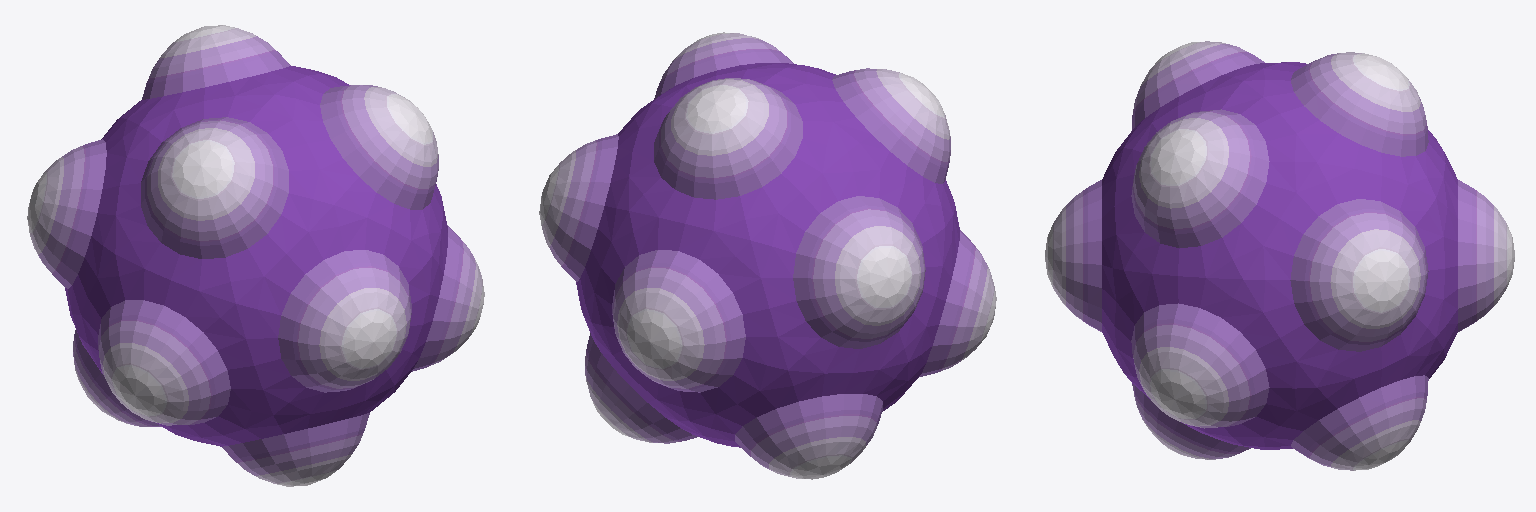
3 renders of one model, left to right at view 1: azimuth 30°, elevation 25°; view 2: azimuth 150°, elevation 25°; view 3: azimuth 270°, elevation 25°, orthographic.
Parts seen in each view (by area): view 1: core_28_0; view 2: core_28_0; view 3: core_28_0.
Boxes of the visible parts, x1=… form: core_28_0: x1=27, y1=25, x2=484, y2=486; core_28_0: x1=539, y1=32, x2=996, y2=479; core_28_0: x1=1045, y1=41, x2=1514, y2=470.
Size of the model in its own units: 0.0478 by 0.0494 by 0.0537.
Materials: 1 (1 with a texture image).